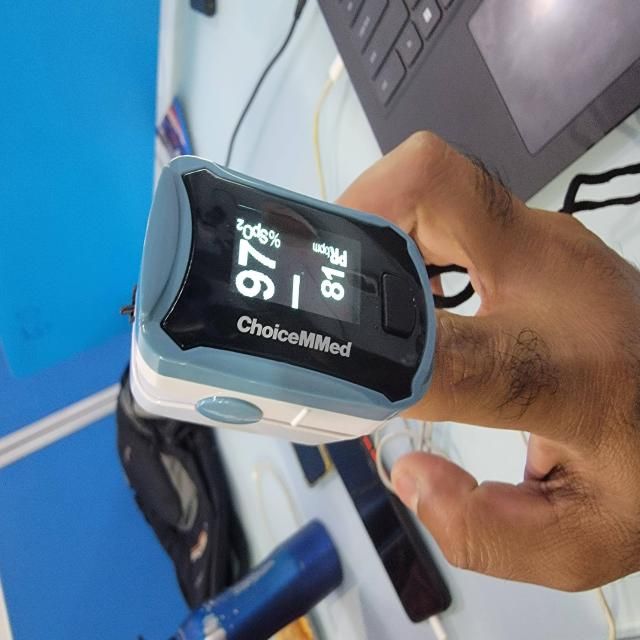spo2: (130, 158, 437, 445)
